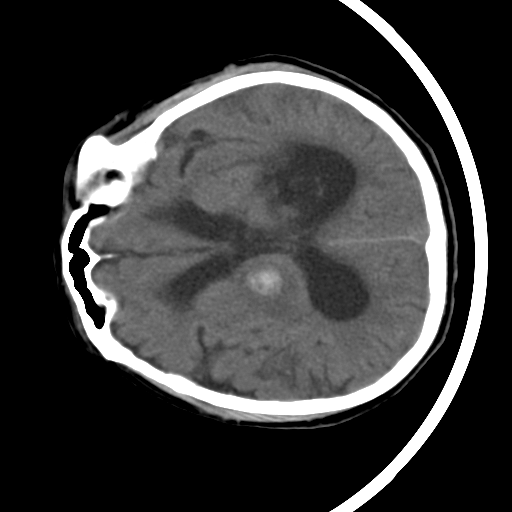a: (232, 258, 301, 324)
